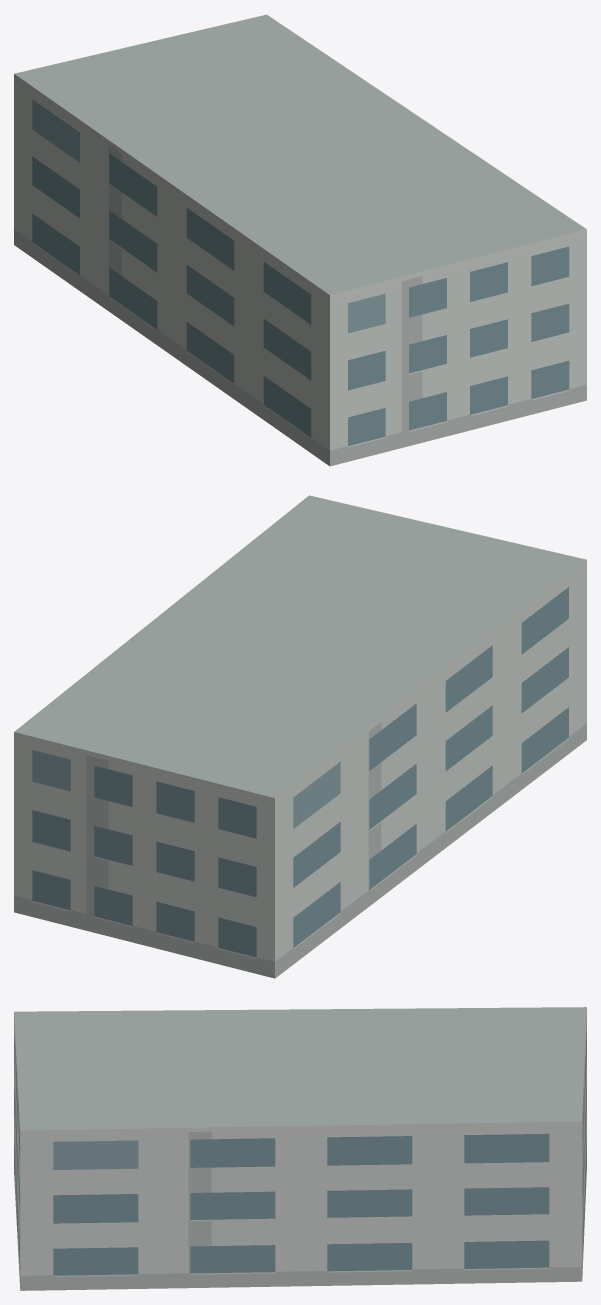
The model's file is survey-upis-32971580.glb.
3 views of the same model, one above another, from view 1: azimuth 30°, elevation 25°; view 2: azimuth 150°, elevation 25°; view 3: azimuth 270°, elevation 25° (orthographic). The views are drawn at different scales.
Parts seen in each view (by area): view 1: survey-upis-32971580.tmp; view 2: survey-upis-32971580.tmp; view 3: survey-upis-32971580.tmp.
Part boxes in pixels (<box>): survey-upis-32971580.tmp: <box>14,14,586,466</box>; survey-upis-32971580.tmp: <box>14,495,586,978</box>; survey-upis-32971580.tmp: <box>14,1007,586,1290</box>.
Bounding box in the file's own units: 15.12 × 9.15 × 29.65.
